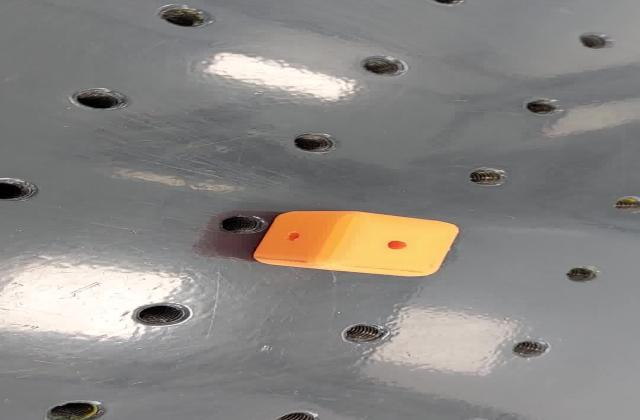cube: (244, 207, 466, 280)
